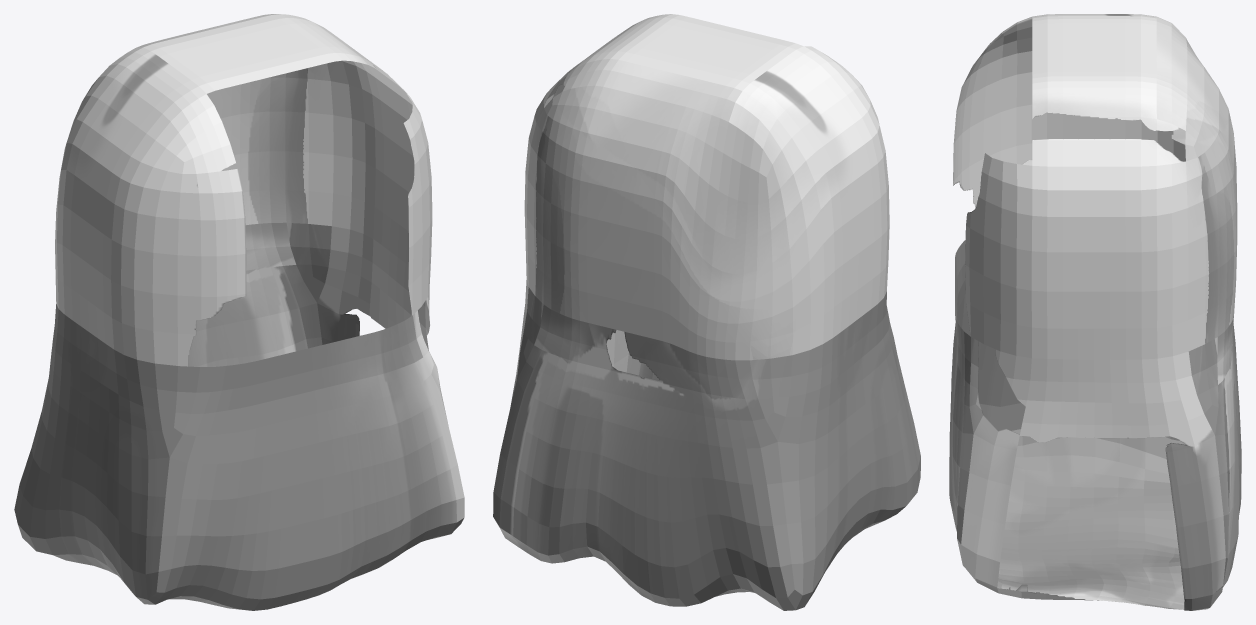
The model's file is spirit-enemy.fbx.
3 renders of one model, left to right at view 1: azimuth 30°, elevation 25°; view 2: azimuth 150°, elevation 25°; view 3: azimuth 270°, elevation 25°, orthographic. The views are drawn at different scales.
Parts seen in each view (by area): view 1: Cube.011; view 2: Cube.011; view 3: Cube.011.
Part boxes in pixels (x1=…): Cube.011: x1=14, y1=14, x2=464, y2=610; Cube.011: x1=493, y1=14, x2=920, y2=610; Cube.011: x1=949, y1=14, x2=1241, y2=610.
Size of the model in its own units: 0.288 by 0.2319 by 0.4478.
Materials: 1 (1 with a texture image).
